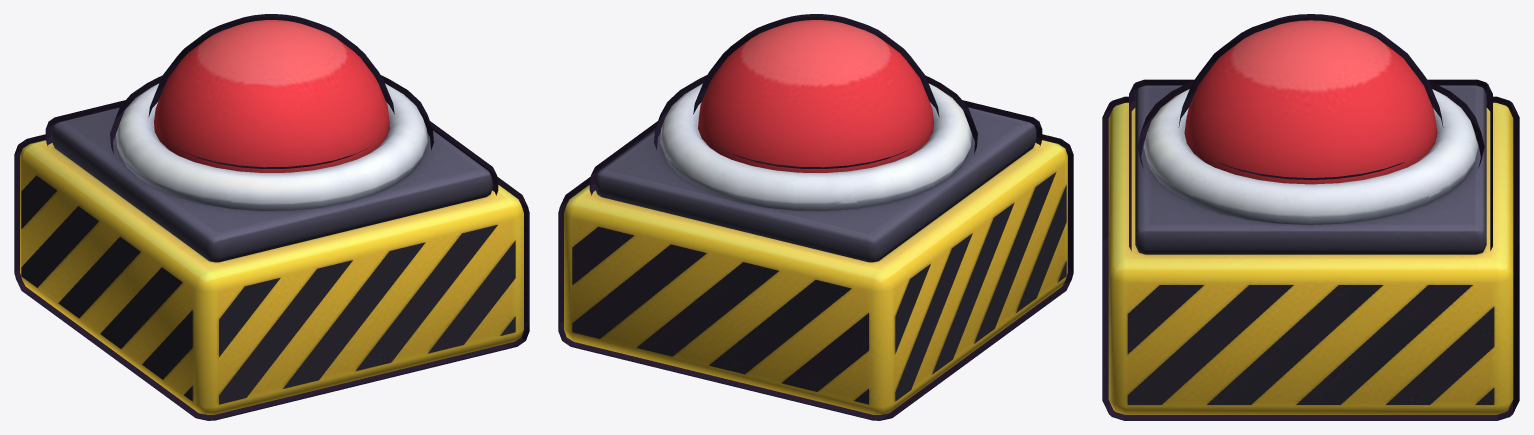
The model's file is SlamButton.glb.
The picture shows the model from 3 angles, left to right: view 1: azimuth 30°, elevation 25°; view 2: azimuth 150°, elevation 25°; view 3: azimuth 270°, elevation 25°; orthographic projection. The views are drawn at different scales.
Visible parts, largest first — view 1: SlamButton, SlamButton_Outline; view 2: SlamButton, SlamButton_Outline; view 3: SlamButton, SlamButton_Outline.
Boxes of the visible parts, x1,y1,x2,y2 form: SlamButton: (20,20,523,414); SlamButton_Outline: (14,14,529,420); SlamButton: (564,20,1067,414); SlamButton_Outline: (558,14,1073,420); SlamButton: (1108,20,1513,414); SlamButton_Outline: (1102,14,1519,420).
Size of the model in its own units: 3.92 by 3.26 by 3.92.
Materials: 2 (2 with a texture image).
